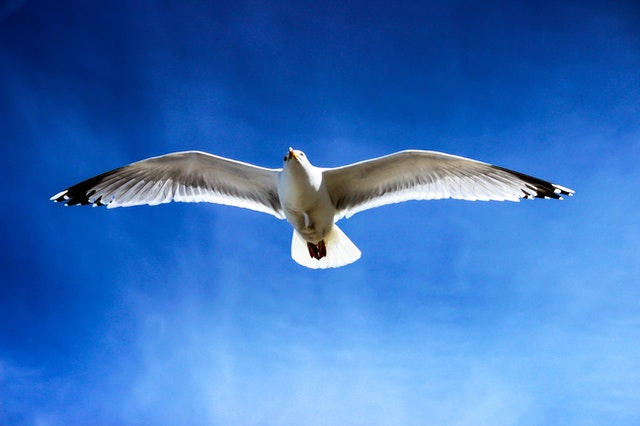bird: (48, 147, 576, 270)
